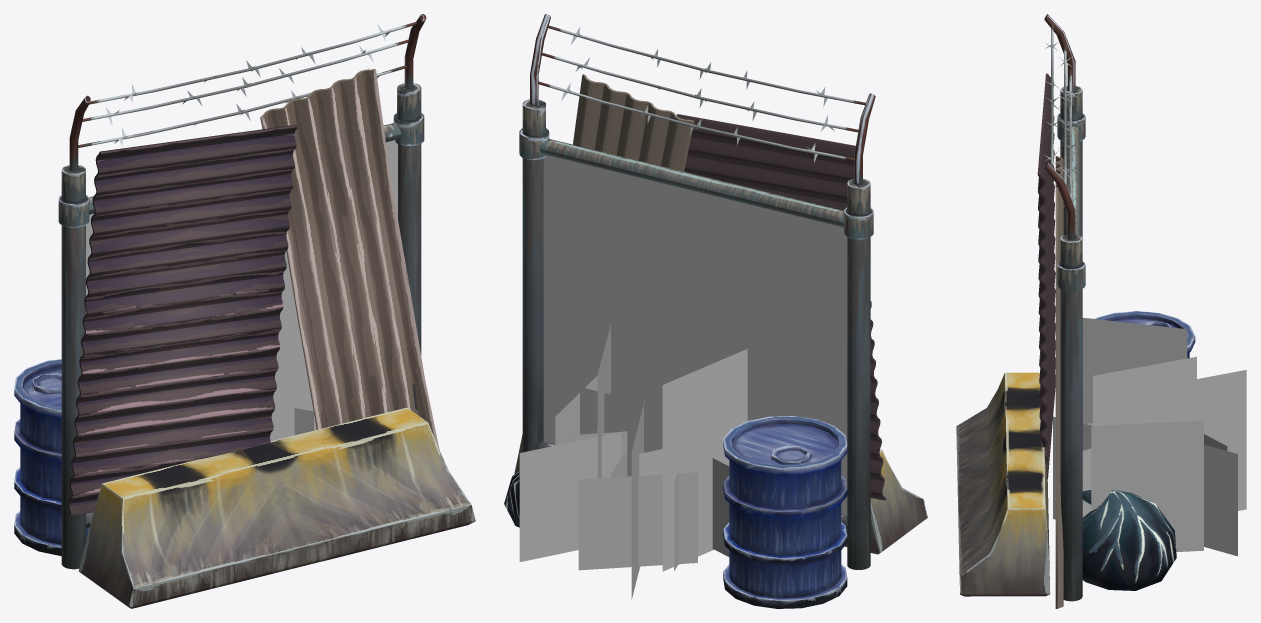
The model's file is zabor1.fbx.
3 views of the same model, side by side, from view 1: azimuth 30°, elevation 25°; view 2: azimuth 150°, elevation 25°; view 3: azimuth 270°, elevation 25° (orthographic). The views are drawn at different scales.
Visible parts, largest first — view 1: Cube.210, Cube.208, Cube.209, Plane.008, Cylinder.017; view 2: Plane.008, Grass.006, Cylinder.017, Cube.210, Cube.209, Cube.208, trash.006; view 3: Grass.006, Cube.208, Plane.008, trash.006, Cube.210, Cube.209, Cylinder.017.
Boxes of the visible parts, x1,y1,x2,y2 form: Cube.210: [68, 124, 298, 515]; Cube.208: [78, 407, 475, 608]; Cube.209: [260, 69, 439, 448]; Plane.008: [58, 14, 426, 569]; Cylinder.017: [14, 359, 89, 556]; Plane.008: [519, 14, 875, 569]; Grass.006: [519, 325, 747, 599]; Cylinder.017: [723, 416, 847, 608]; Cube.210: [676, 114, 886, 500]; Cube.209: [514, 74, 694, 473]; Cube.208: [844, 449, 927, 554]; trash.006: [504, 470, 519, 527]; Grass.006: [1053, 317, 1246, 556]; Cube.208: [956, 372, 1050, 596]; Plane.008: [1044, 14, 1085, 601]; trash.006: [1082, 490, 1176, 590]; Cube.210: [1037, 73, 1055, 479]; Cube.209: [1055, 156, 1063, 608]; Cylinder.017: [1094, 311, 1195, 358].
Size of the model in its own units: 4.75 by 5.96 by 3.47.
